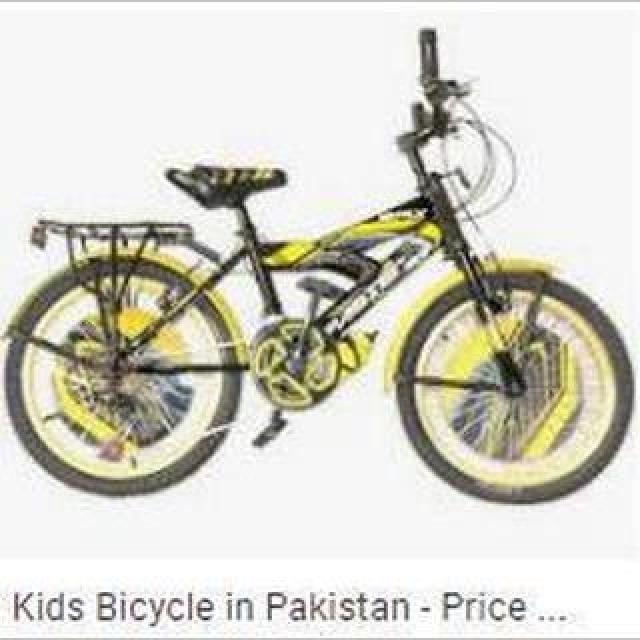Person: (7, 26, 637, 504)
